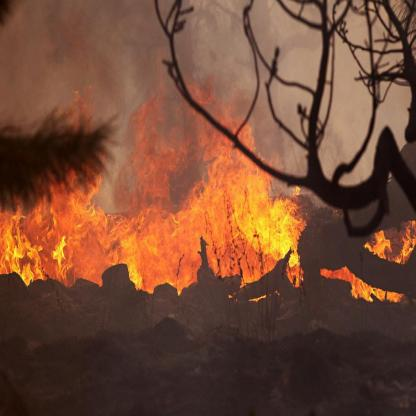fire: (2, 172, 307, 286), (140, 74, 257, 180), (328, 226, 415, 303)
